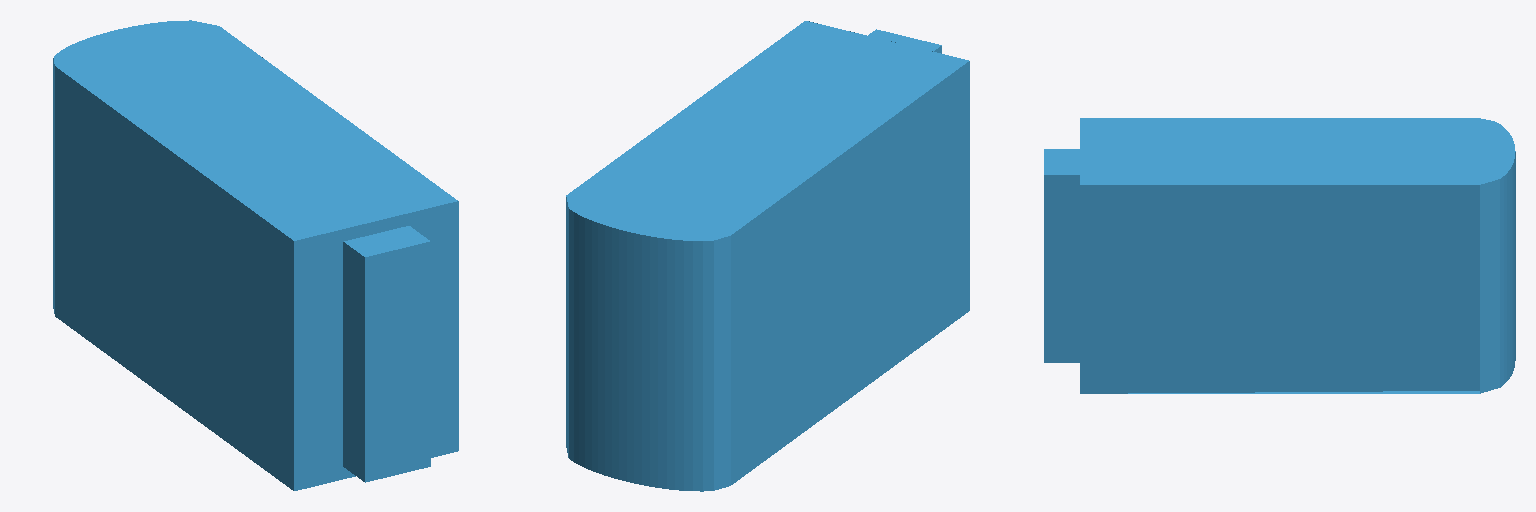
robot.urdf — 3v3_42.5.30.0.27.5_32.5.42.5.25.0_1.0.975_63:
<?xml version="1.0" ?>
<robot name="3v3_42.5.30.0.27.5_32.5.42.5.25.0_1.0.975_63">

    <link name="palm">
        <visual>
            <origin rpy="0 0 0" xyz="0 0 0"/>
            <geometry>
                <mesh filename="obj_files/palm.obj" scale="1 1 1"/>
            </geometry>
        </visual>
        <collision>
            <geometry>
                <mesh filename="obj_files/palm_collision.obj" scale="1 1 1"/>
            </geometry>
        </collision>
    </link>

    <link name="finger0_segment0">
        <visual>
            <origin rpy="0 0 0" xyz="0 0 0"/>
            <geometry>
                <mesh filename="obj_files/finger0_segment0.obj" scale="1 1 1"/>
            </geometry>
        </visual>
        <collision>
            <geometry>
                <mesh filename="obj_files/finger0_segment0_collision.obj" scale="1 1 1"/>
            </geometry>
        </collision>
    </link>

    <joint name="finger0_segment0_joint" type="revolute">
        <parent link="palm"/>
        <child link="finger0_segment0"/>
        <origin rpy="0 0 0" xyz="0.0315 0 0.0"/>
        <axis xyz="0 0 1"/>
        <limit effort="1000.0" lower="-3.14" upper="3.14" velocity="0.5"/>
    </joint>

    <link name="finger0_segment1">
        <visual>
            <origin rpy="0 0 0" xyz="0 0 0"/>
            <geometry>
                <mesh filename="obj_files/finger0_segment1.obj" scale="1 1 1"/>
            </geometry>
        </visual>
        <collision>
            <geometry>
                <mesh filename="obj_files/finger0_segment1_collision.obj" scale="1 1 1"/>
            </geometry>
        </collision>
    </link>

    <joint name="finger0_segment1_joint" type="revolute">
        <parent link="finger0_segment0"/>
        <child link="finger0_segment1"/>
        <origin rpy="0 0 0" xyz="0 0.06042531645569619 0"/>
        <axis xyz="0 0 1"/>
        <limit effort="1000.0" lower="-3.14" upper="3.14" velocity="0.5"/>
    </joint>

    <link name="finger0_segment2">
        <visual>
            <origin rpy="0 0 0" xyz="0 0 0"/>
            <geometry>
                <mesh filename="obj_files/finger0_segment2.obj" scale="1 1 1"/>
            </geometry>
        </visual>
        <collision>
            <geometry>
                <mesh filename="obj_files/finger0_segment2_collision.obj" scale="1 1 1"/>
            </geometry>
        </collision>
    </link>

    <joint name="finger0_segment2_joint" type="revolute">
        <parent link="finger0_segment1"/>
        <child link="finger0_segment2"/>
        <origin rpy="0 0 0" xyz="0 0.04265316455696202 0"/>
        <axis xyz="0 0 1"/>
        <limit effort="1000.0" lower="-3.14" upper="3.14" velocity="0.5"/>
    </joint>

    <link name="finger1_segment0">
        <visual>
            <origin rpy="0 0 0" xyz="0 0 0"/>
            <geometry>
                <mesh filename="obj_files/finger1_segment0.obj" scale="1 1 1"/>
            </geometry>
        </visual>
        <collision>
            <geometry>
                <mesh filename="obj_files/finger1_segment0_collision.obj" scale="1 1 1"/>
            </geometry>
        </collision>
    </link>

    <joint name="finger1_segment0_joint" type="revolute">
        <parent link="palm"/>
        <child link="finger1_segment0"/>
        <origin rpy="0 0 0" xyz="-0.0315 0 3.8576374173141625e-18"/>
        <axis xyz="0 0 1"/>
        <limit effort="1000.0" lower="-3.14" upper="3.14" velocity="0.5"/>
    </joint>

    <link name="finger1_segment1">
        <visual>
            <origin rpy="0 0 0" xyz="0 0 0"/>
            <geometry>
                <mesh filename="obj_files/finger1_segment1.obj" scale="1 1 1"/>
            </geometry>
        </visual>
        <collision>
            <geometry>
                <mesh filename="obj_files/finger1_segment1_collision.obj" scale="1 1 1"/>
            </geometry>
        </collision>
    </link>

    <joint name="finger1_segment1_joint" type="revolute">
        <parent link="finger1_segment0"/>
        <child link="finger1_segment1"/>
        <origin rpy="0 0 0" xyz="0 0.047392405063291135 0"/>
        <axis xyz="0 0 1"/>
        <limit effort="1000.0" lower="-3.14" upper="3.14" velocity="0.5"/>
    </joint>

    <link name="finger1_segment2">
        <visual>
            <origin rpy="0 0 0" xyz="0 0 0"/>
            <geometry>
                <mesh filename="obj_files/finger1_segment2.obj" scale="1 1 1"/>
            </geometry>
        </visual>
        <collision>
            <geometry>
                <mesh filename="obj_files/finger1_segment2_collision.obj" scale="1 1 1"/>
            </geometry>
        </collision>
    </link>

    <joint name="finger1_segment2_joint" type="revolute">
        <parent link="finger1_segment1"/>
        <child link="finger1_segment2"/>
        <origin rpy="0 0 0" xyz="0 0.061974683544303785 0"/>
        <axis xyz="0 0 1"/>
        <limit effort="1000.0" lower="-3.14" upper="3.14" velocity="0.5"/>
    </joint>

</robot>

--- What the picture shows (computed from the rendered views, not written in the file) ---
The picture shows the robot from 3 angles, left to right: view 1: azimuth 30°, elevation 25°; view 2: azimuth 150°, elevation 25°; view 3: azimuth 270°, elevation 25°; orthographic projection.
Robot: 3v3_42.5.30.0.27.5_32.5.42.5.25.0_1.0.975_63 — 7 links, 6 joints (6 revolute); root link palm; default pose: every joint at zero.
Links seen in each view (by area): view 1: finger0_segment0; view 2: finger0_segment0; view 3: finger0_segment0.
Boxes of the visible links, box(x1,y1,x2,y2) form: finger0_segment0: box(53, 20, 458, 490); finger0_segment0: box(566, 21, 969, 491); finger0_segment0: box(1044, 118, 1515, 393).
Size in the robot's own frame: 0.022 by 0.0654 by 0.032 metres.
Meshes: 7 distinct files referenced, 1 mesh visuals loaded (1 OBJ); not drawn: 6 (reference not matched to a file when rendering).